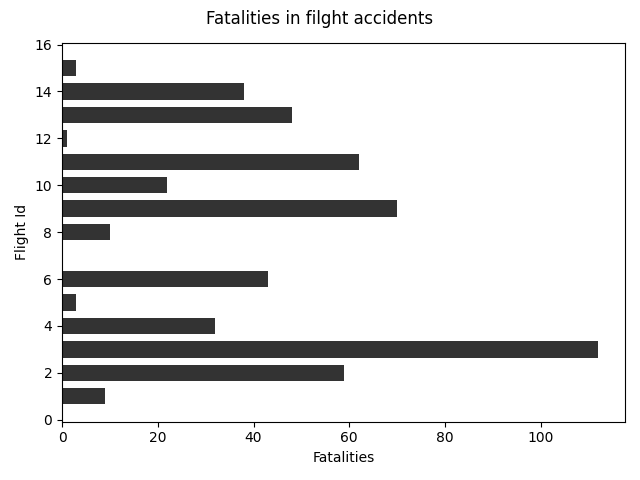canvas: (61, 50, 609, 413)
title: (197, 3, 441, 32)
x-axis: (54, 417, 635, 428)
x-labels: (50, 428, 599, 445)
x-title: (302, 448, 380, 468)
y-axis: (55, 39, 63, 429)
y-labels: (34, 35, 54, 427)
y-title: (10, 194, 28, 274)
